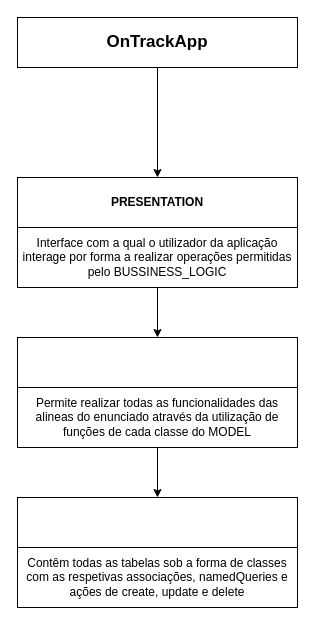
This 315x625 diagram has some shape labels left out. Here are the shapes that lost their labels. From the top down, the centre of each, then its label:
(157,362): BUSSINESS_LOGIC
(157,522): MODEL
